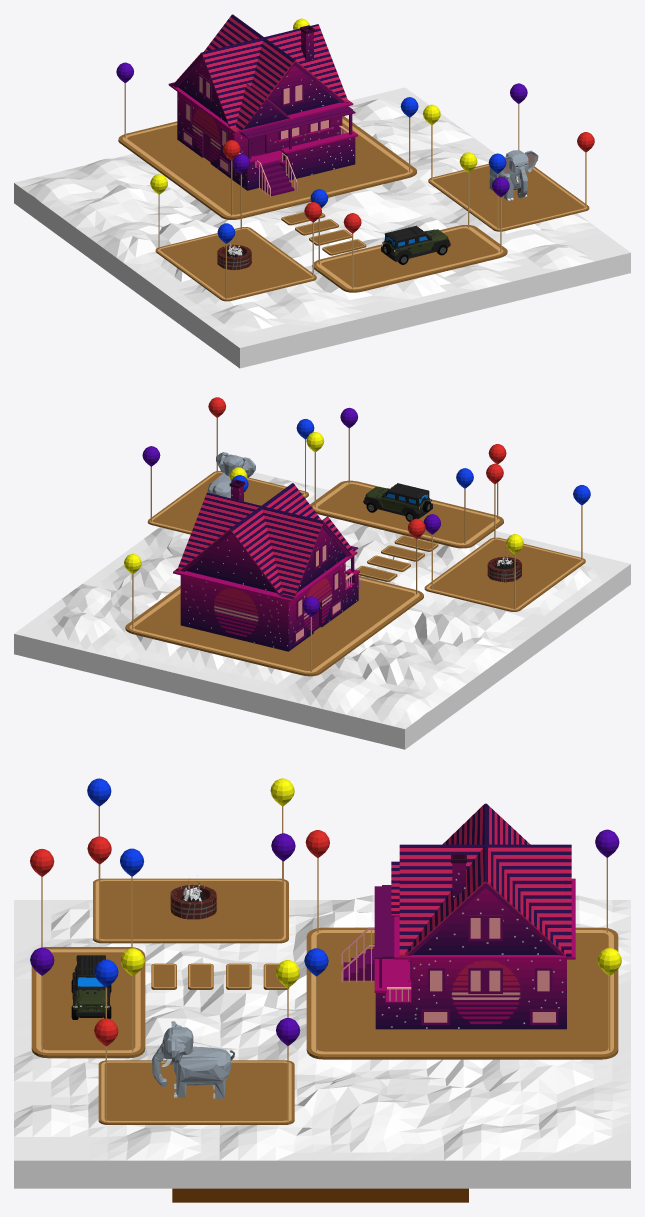
The picture shows the model from 3 angles, top to bottom: view 1: azimuth 30°, elevation 25°; view 2: azimuth 150°, elevation 25°; view 3: azimuth 270°, elevation 25°; orthographic projection. The views are drawn at different scales.
Parts seen in each view (by area): view 1: Cube.013, Cube.156, VEHICLES_JEEP, ANIMAL_ELEFANTE, OBJRANDOM_CAMPFIRE; view 2: Cube.013, Cube.156, VEHICLES_JEEP, ANIMAL_ELEFANTE, OBJRANDOM_CAMPFIRE; view 3: Cube.013, Cube.156, UNDERGROUND_ART_PIECE_VAN_GOGH, ANIMAL_ELEFANTE, VEHICLES_JEEP, OBJRANDOM_CAMPFIRE.
Part boxes in pixels (box(x1,y1,x2,y2)): Cube.013: box(14, 18, 630, 368); Cube.156: box(168, 14, 357, 197); VEHICLES_JEEP: box(381, 225, 450, 264); ANIMAL_ELEFANTE: box(489, 150, 538, 201); OBJRANDOM_CAMPFIRE: box(217, 243, 251, 270); Cube.013: box(14, 397, 630, 749); Cube.156: box(173, 479, 360, 651); VEHICLES_JEEP: box(363, 483, 432, 521); ANIMAL_ELEFANTE: box(207, 452, 255, 498); OBJRANDOM_CAMPFIRE: box(487, 555, 521, 582); Cube.013: box(14, 778, 630, 1188); Cube.156: box(341, 803, 575, 1029); UNDERGROUND_ART_PIECE_VAN_GOGH: box(172, 1188, 468, 1202); ANIMAL_ELEFANTE: box(152, 1021, 234, 1098); VEHICLES_JEEP: box(71, 955, 111, 1019); OBJRANDOM_CAMPFIRE: box(170, 881, 216, 919).
Size of the model in its own units: 4000 by 1813 by 4000.
Materials: 34 (4 with a texture image).
